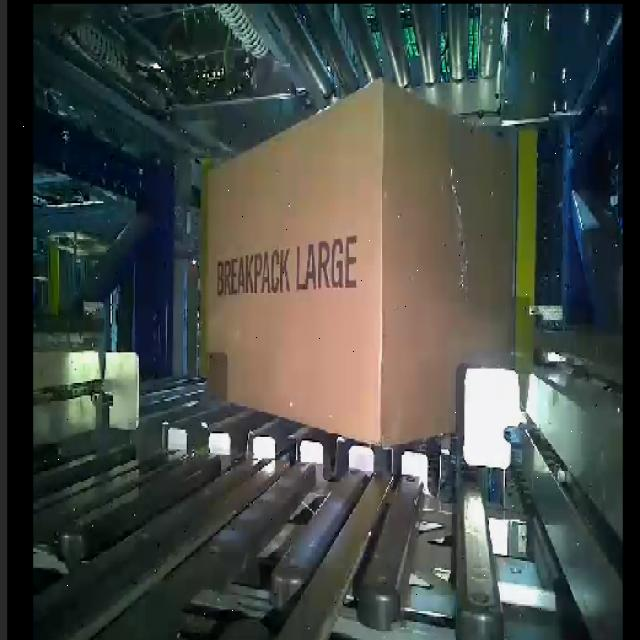box: (205, 81, 386, 449)
